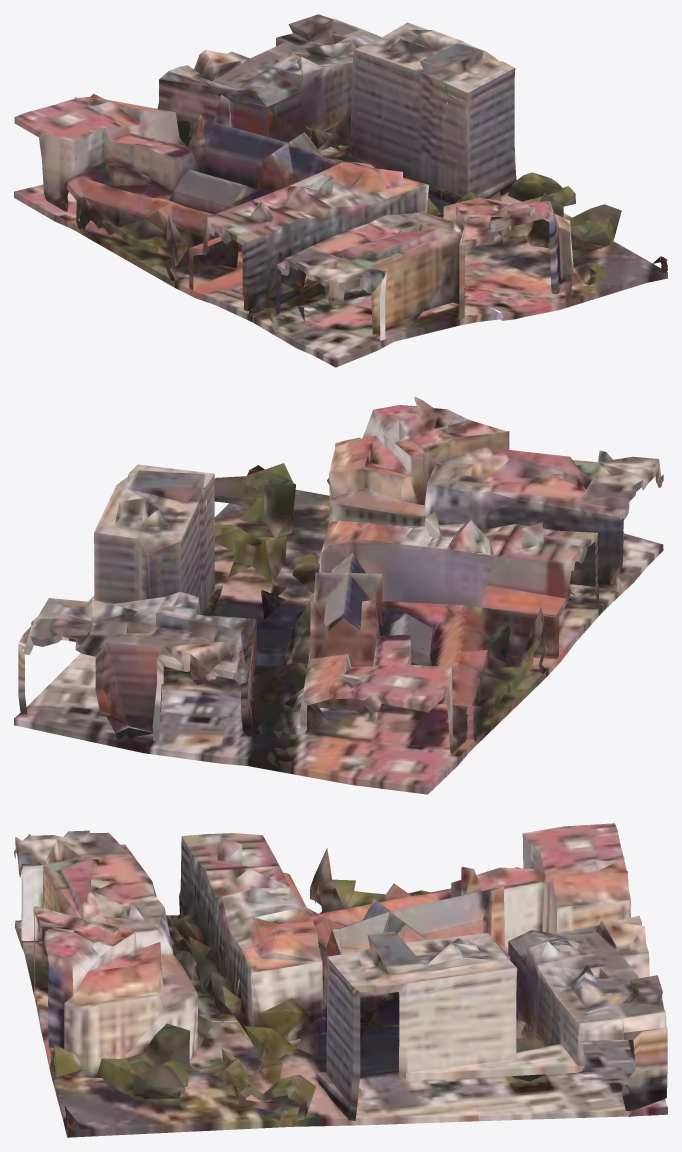
3 renders of one model, top to bottom at view 1: azimuth 30°, elevation 25°; view 2: azimuth 150°, elevation 25°; view 3: azimuth 270°, elevation 25°, orthographic. The views are drawn at different scales.
Visible parts, largest first — view 1: Mesh_0; view 2: Mesh_0; view 3: Mesh_0.
Boxes of the visible parts, bbox=[...] form: Mesh_0: bbox=[14, 14, 667, 367]; Mesh_0: bbox=[14, 396, 663, 794]; Mesh_0: bbox=[14, 823, 667, 1137].
Size of the model in its own units: 133 by 45.54 by 165.
Materials: 1 (1 with a texture image).
